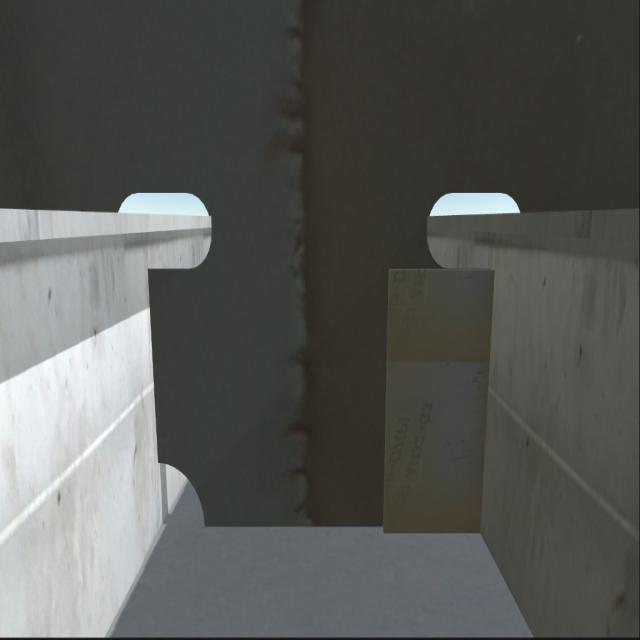fillet_hole: (158, 459, 212, 525)
fillet_yong_jeop_jang: (197, 520, 485, 538)
longi_yong_jeop_jang: (472, 258, 499, 538), (145, 262, 168, 466)
plate_CP01: (377, 265, 495, 532)
